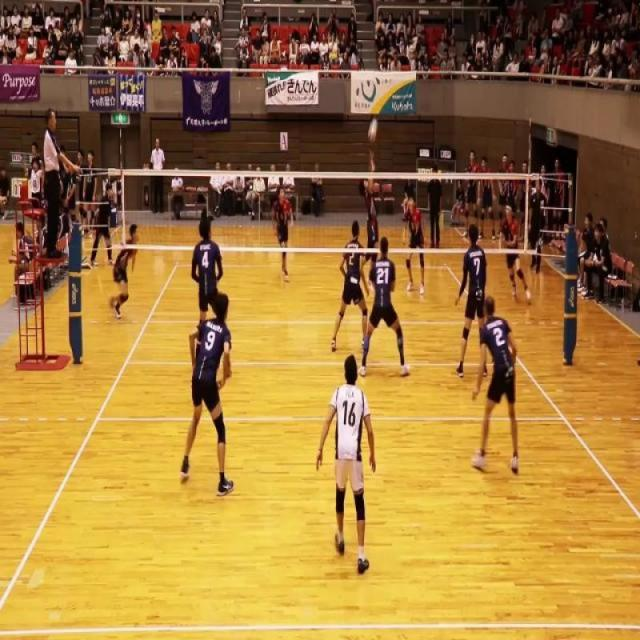volleyball: (368, 116, 378, 145)
